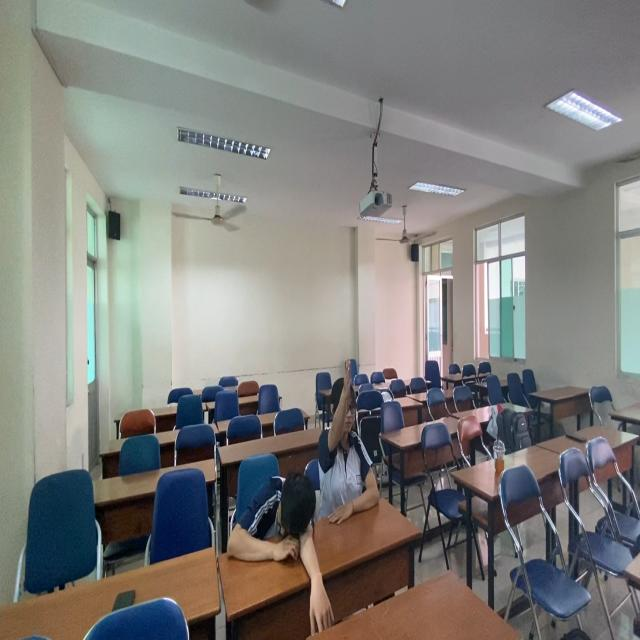raise_hand: (319, 356, 384, 528)
sleep: (225, 469, 320, 585)
